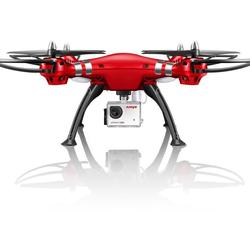drone: (1, 41, 250, 151)
